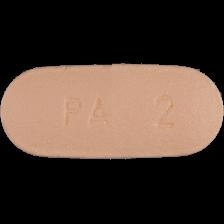55154-1414: (0, 0, 224, 224)
